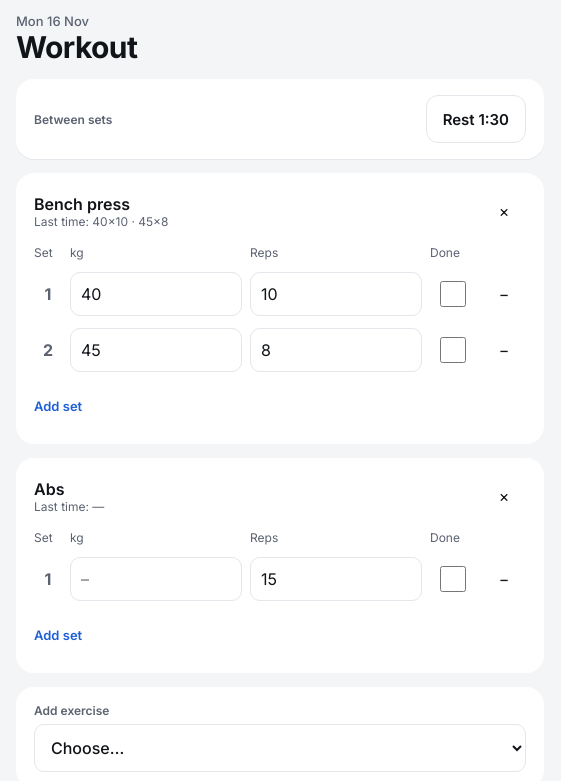
add set copies the previous set
This screenshot has width=561, height=781.
Click the button "Add set" below "Last time: 40×10 · 45×8" at (58, 406), box [34,384,82,428]
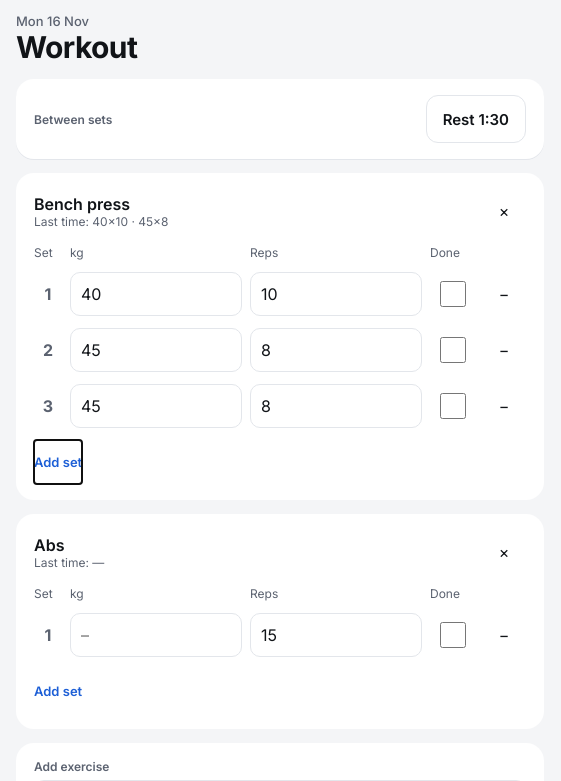
Result: the field named "Set 3 kg" holds "45" at [70,384,242,428]
Result: the field named "Set 3 reps" holds "8" at [250,384,422,428]
